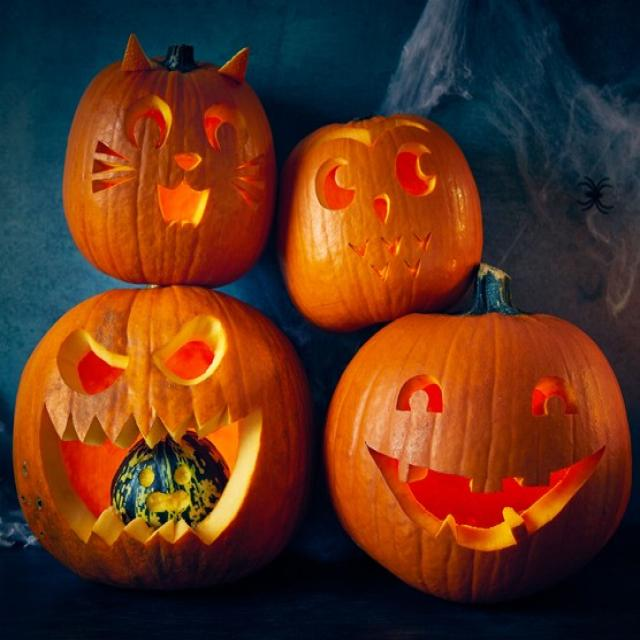pumpkin: (325, 268, 631, 601), (14, 286, 311, 588), (64, 34, 274, 286), (279, 117, 482, 330)
